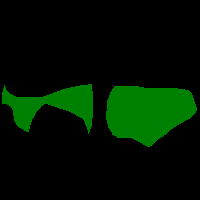mutande: (106, 85, 197, 147), (1, 84, 93, 134)
